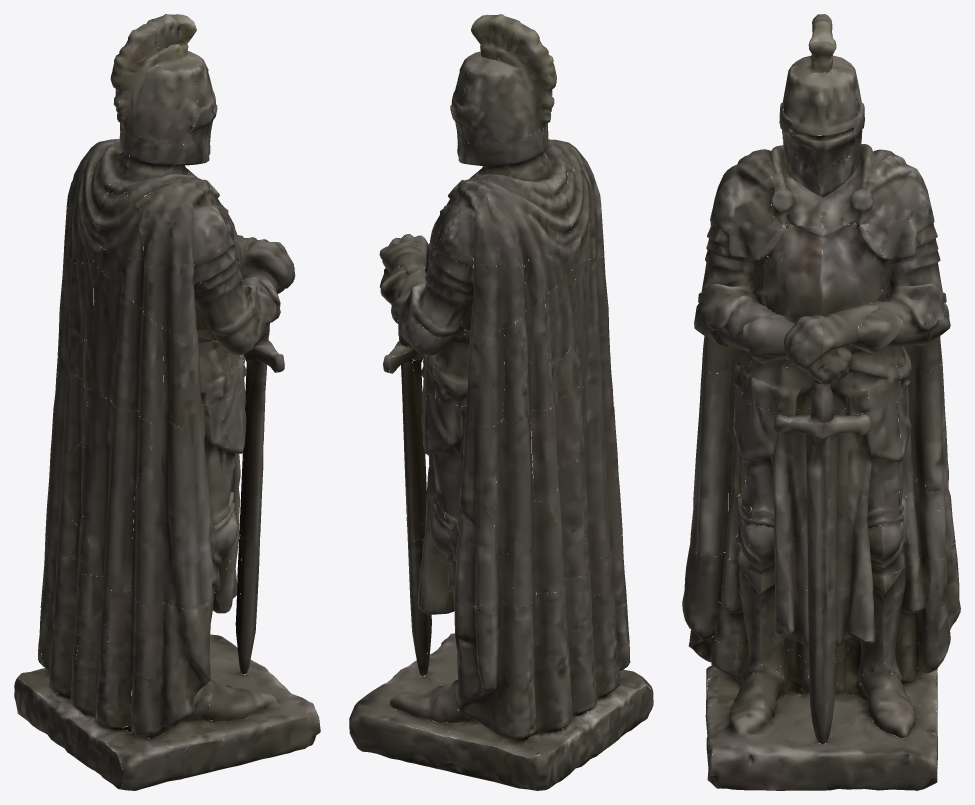
The model's file is statue_knight.glb.
3 renders of one model, left to right at view 1: azimuth 30°, elevation 25°; view 2: azimuth 150°, elevation 25°; view 3: azimuth 270°, elevation 25°, orthographic.
Parts seen in each view (by area): view 1: tripo_node_b57fe31d-466e-478f-96fa-0186db389264; view 2: tripo_node_b57fe31d-466e-478f-96fa-0186db389264; view 3: tripo_node_b57fe31d-466e-478f-96fa-0186db389264.
Boxes of the visible parts, box(x1,y1,x2,y2) form: tripo_node_b57fe31d-466e-478f-96fa-0186db389264: box(14, 14, 320, 790); tripo_node_b57fe31d-466e-478f-96fa-0186db389264: box(349, 14, 653, 790); tripo_node_b57fe31d-466e-478f-96fa-0186db389264: box(682, 14, 960, 790).
Bounding box in the file's own units: 0.3223 × 1 × 0.3498.
Materials: 1 (1 with a texture image).
